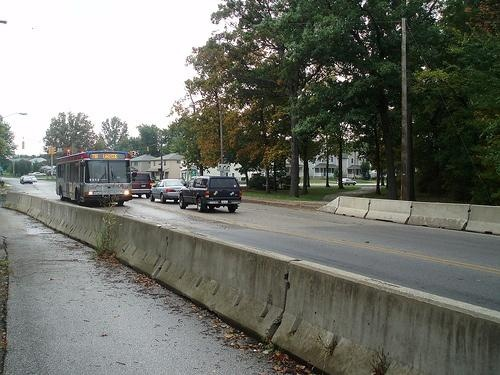bus: (57, 149, 134, 206)
car: (180, 176, 244, 213), (150, 178, 188, 204), (128, 171, 153, 199), (341, 177, 358, 187), (19, 175, 34, 185), (33, 176, 39, 184)
